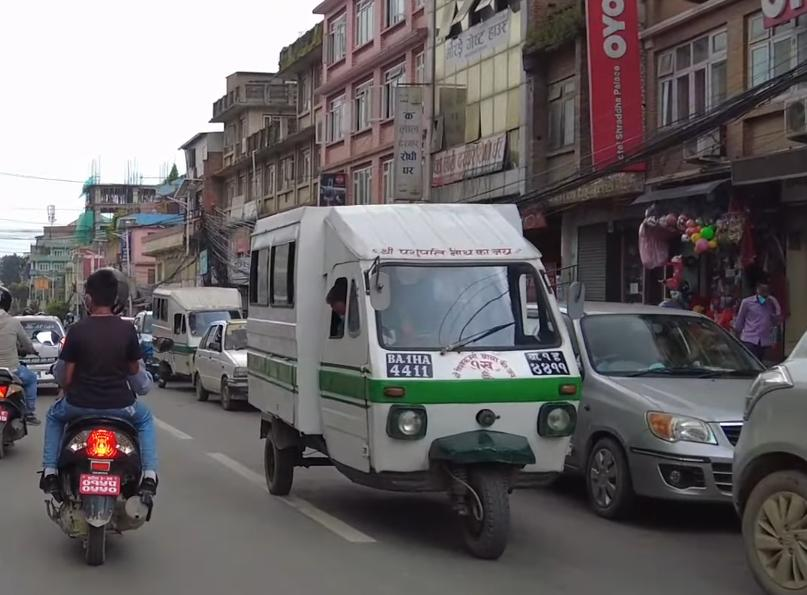car: (525, 292, 778, 521)
scooter: (45, 355, 166, 567)
taxi: (188, 314, 262, 411)
tempo: (233, 199, 603, 564), (151, 281, 249, 393)
